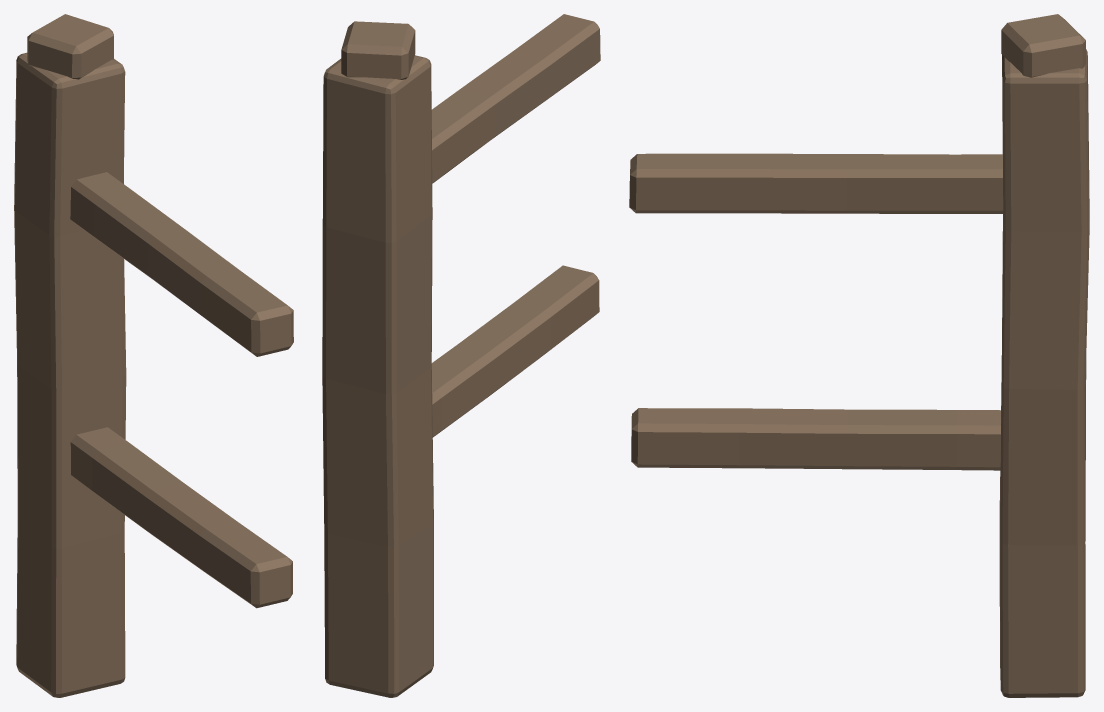
The model's file is fence_unit.glb.
The picture shows the model from 3 angles, left to right: view 1: azimuth 30°, elevation 25°; view 2: azimuth 150°, elevation 25°; view 3: azimuth 270°, elevation 25°; orthographic projection.
Parts seen in each view (by area): view 1: fence_unit; view 2: fence_unit; view 3: fence_unit.
Part boxes in pixels (x1=…): fence_unit: x1=14, y1=14, x2=293, y2=697; fence_unit: x1=322, y1=14, x2=600, y2=697; fence_unit: x1=629, y1=14, x2=1089, y2=697.
Bounding box in the file's own units: 0.1346 × 1.1 × 0.7007.
